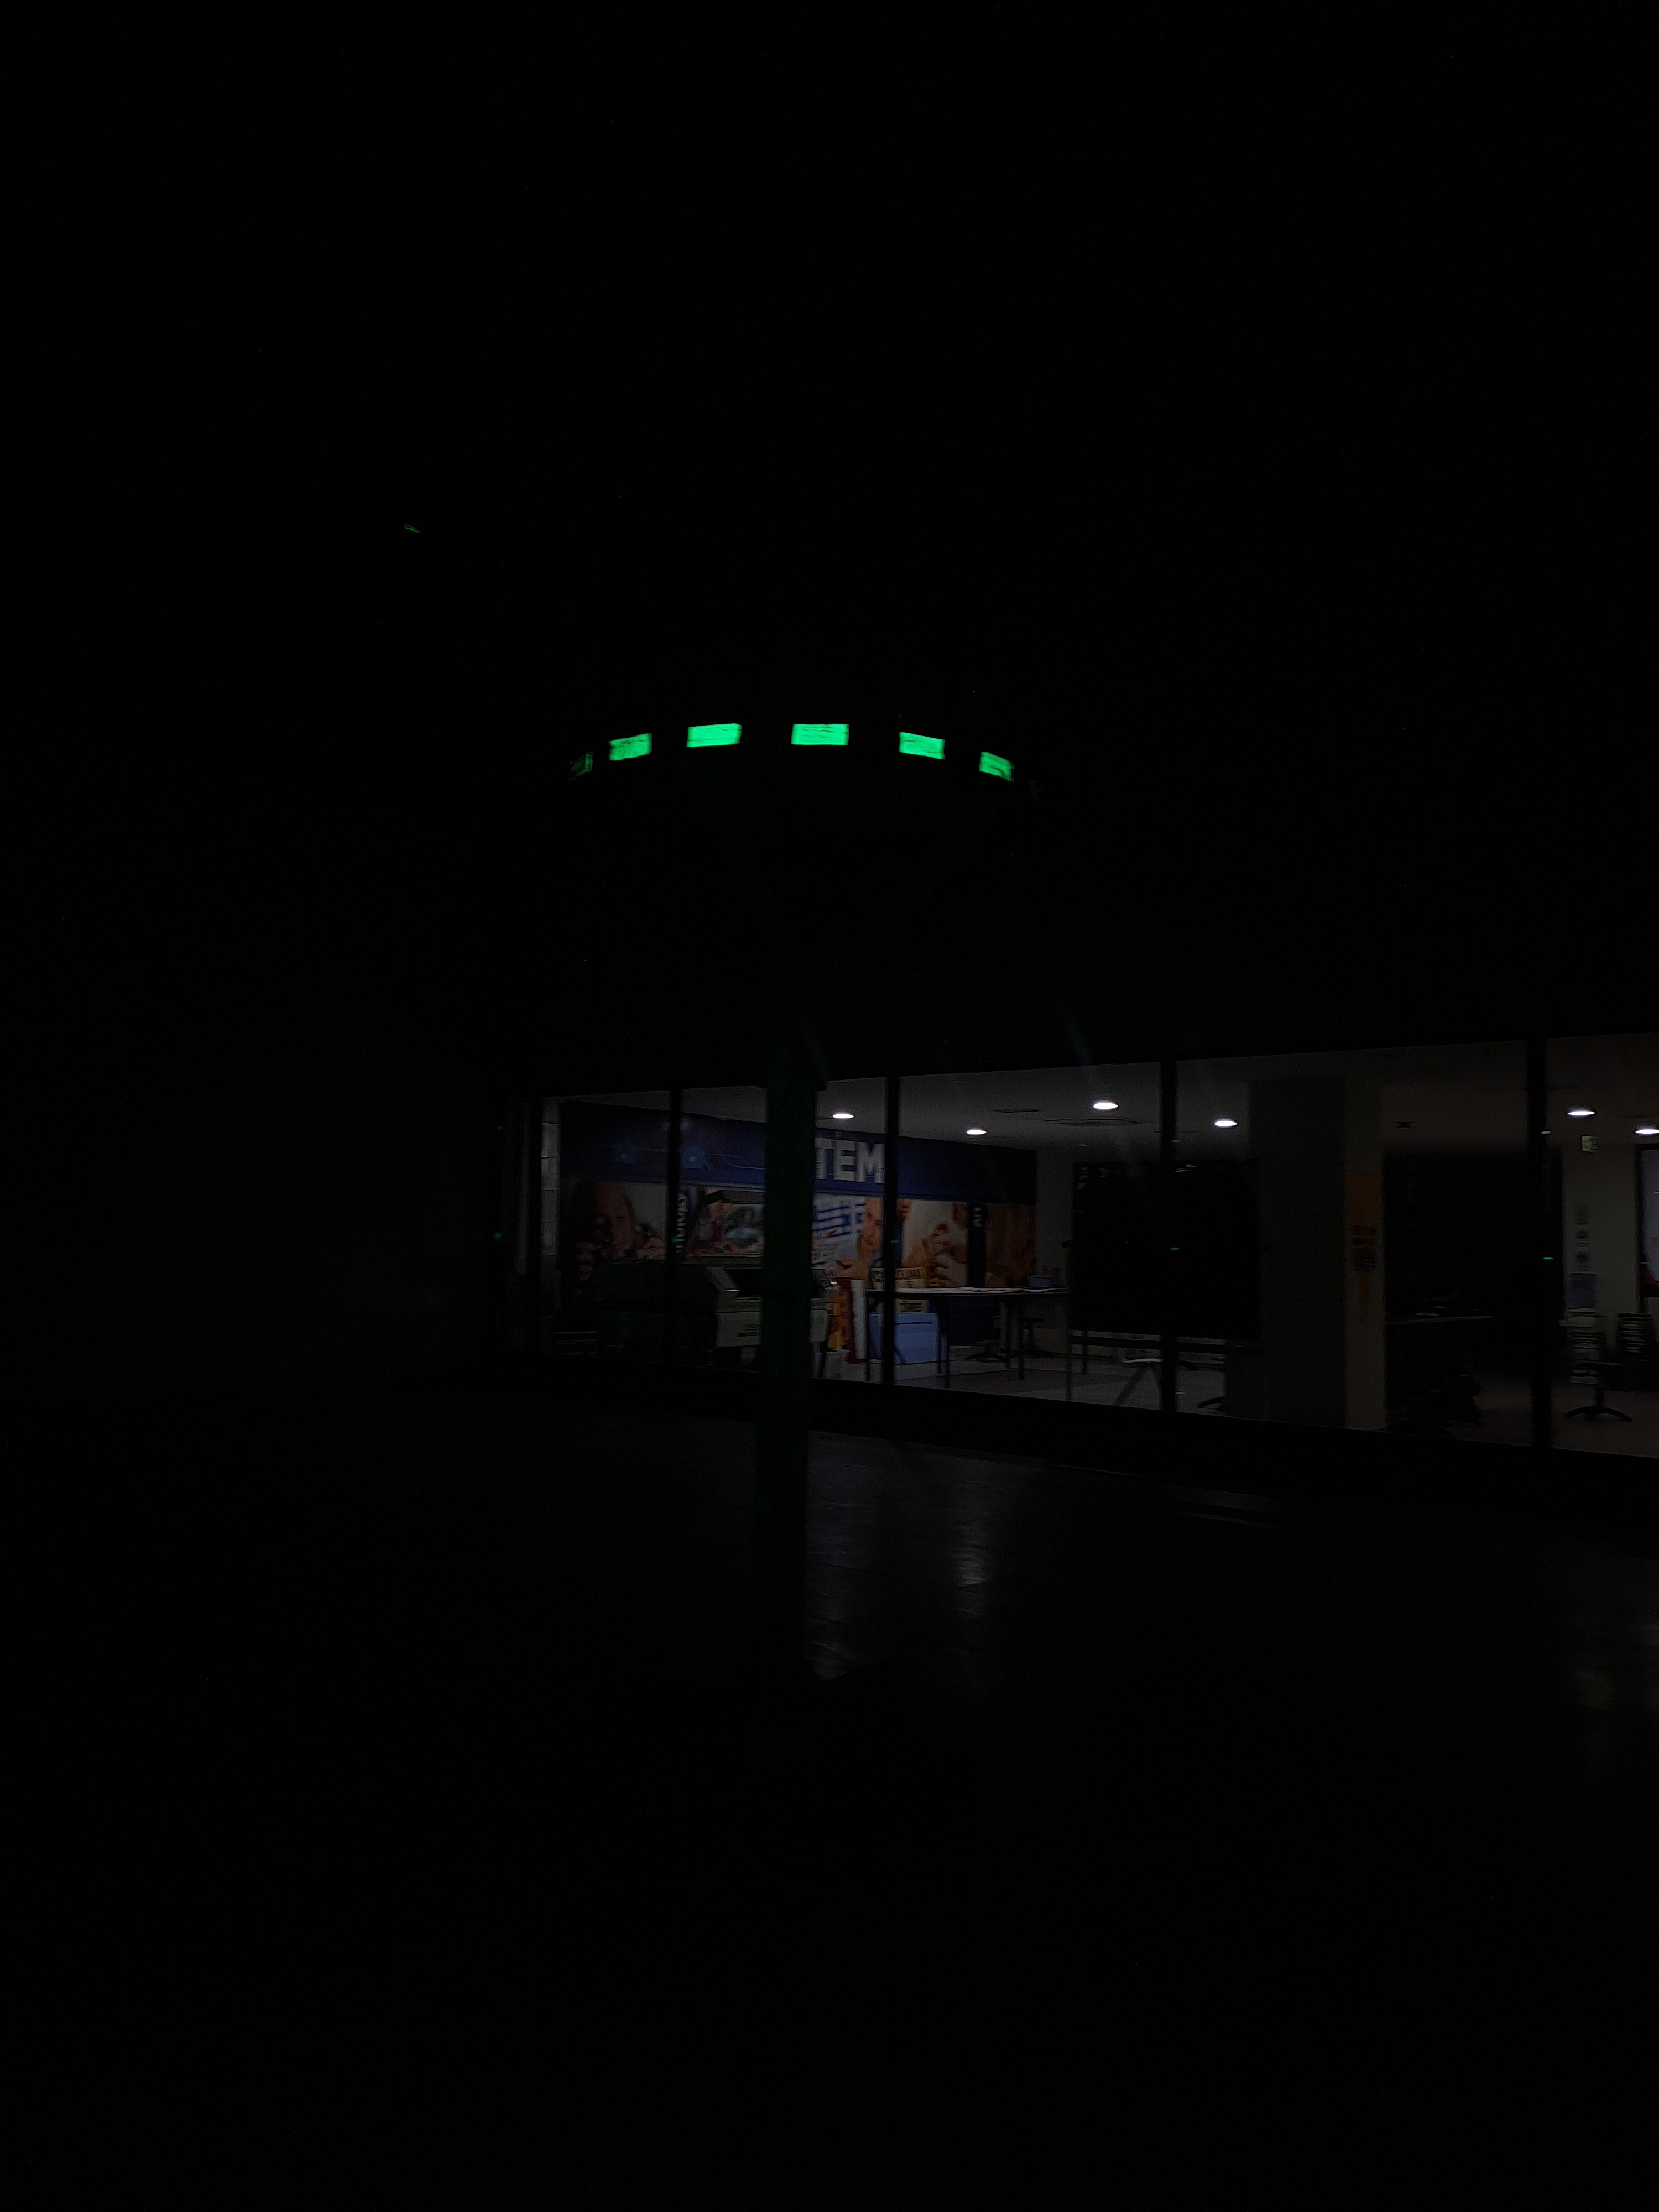hoop: (605, 719, 1019, 794)
